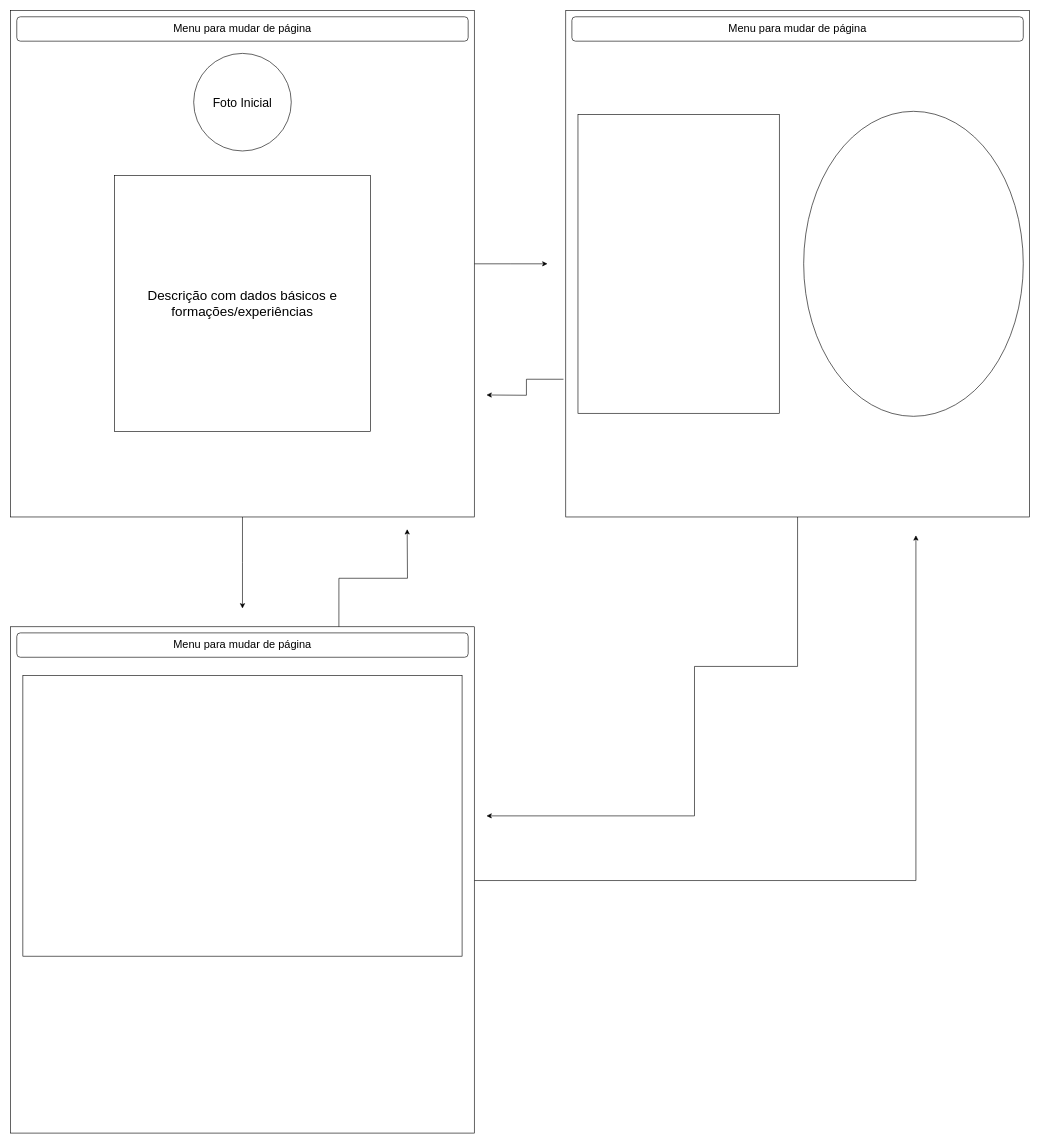
This 1040x1144 diagram has some shape labels left out. The box of each missing label's shape, as (x1, y1, x2, y2) in pixels:
Foto diferente: (803, 111, 1023, 416)
Informações de contato: (22, 675, 462, 956)
Sobre mim: (577, 114, 779, 413)
